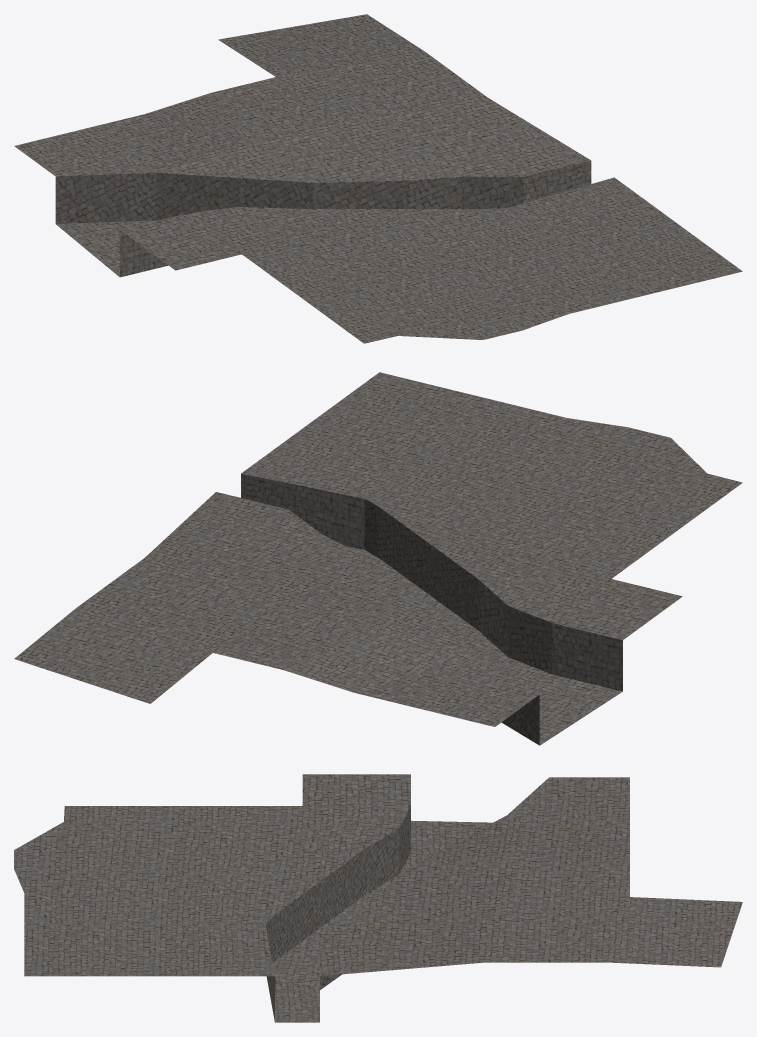
Rendered from fLOR.fbx.
3 renders of one model, top to bottom at view 1: azimuth 30°, elevation 25°; view 2: azimuth 150°, elevation 25°; view 3: azimuth 270°, elevation 25°, orthographic. The views are drawn at different scales.
Parts seen in each view (by area): view 1: Plane.016; view 2: Plane.016; view 3: Plane.016.
Boxes of the visible parts, <box> form: Plane.016: <box>14,14,742,343</box>; Plane.016: <box>14,372,742,745</box>; Plane.016: <box>14,774,742,1022</box>.
Bounding box in the file's own units: 4551 × 540 × 6947.
